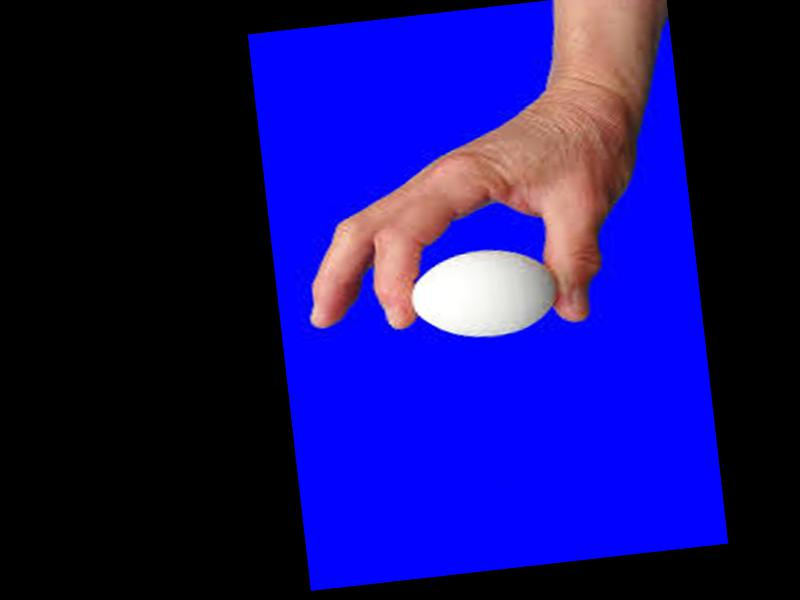Eggs: (404, 242, 560, 344)
